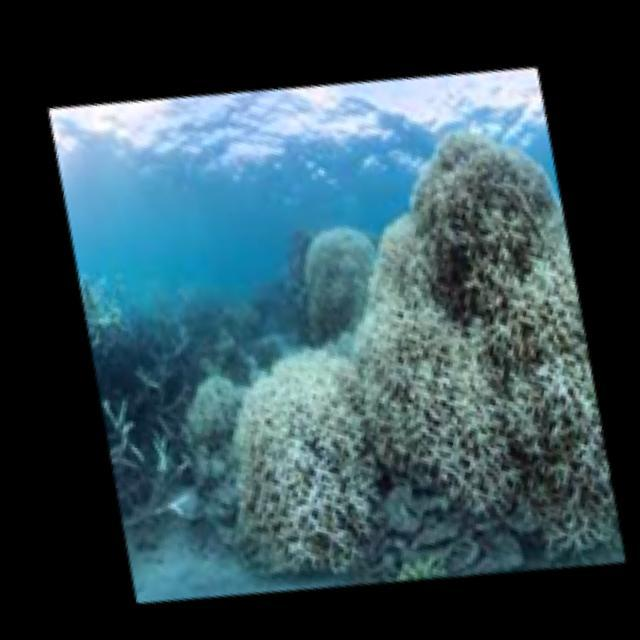Dead Coral: (388, 111, 564, 344), (63, 299, 212, 505)
